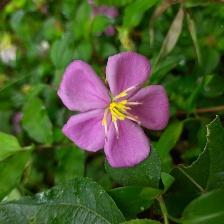malabar melastome: (58, 50, 172, 171)
